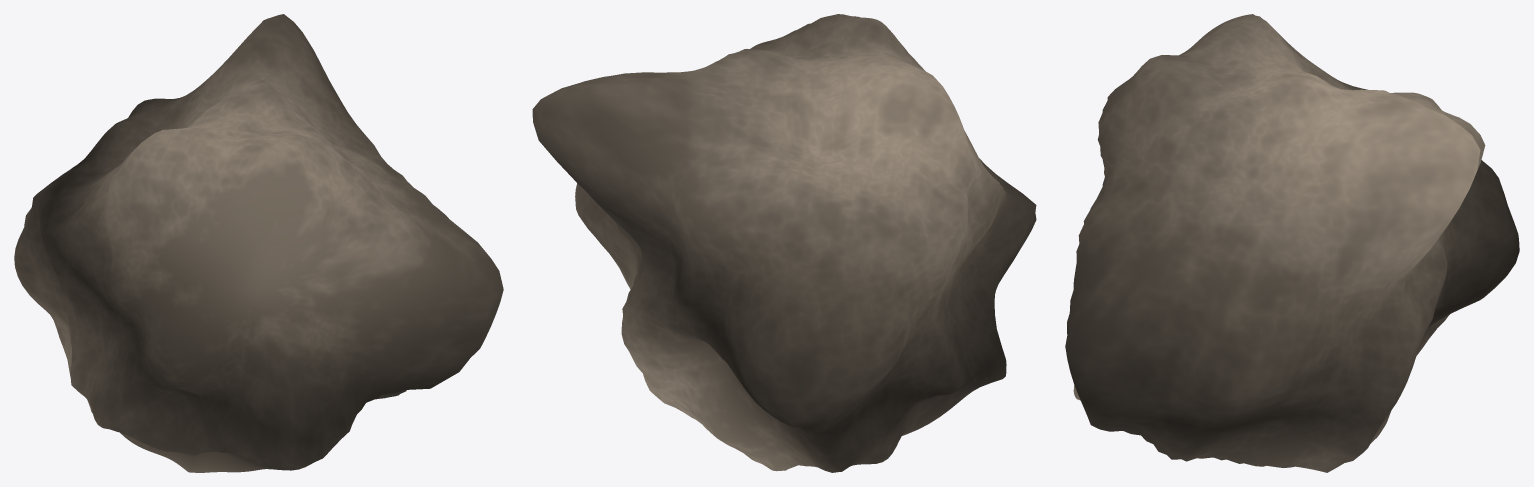
The model's file is asteroid-gravel.glb.
3 renders of one model, left to right at view 1: azimuth 30°, elevation 25°; view 2: azimuth 150°, elevation 25°; view 3: azimuth 270°, elevation 25°, orthographic. The views are drawn at different scales.
Parts seen in each view (by area): view 1: asteroid_1005; view 2: asteroid_1005; view 3: asteroid_1005.
Boxes of the visible parts, <box> form: asteroid_1005: <box>14,14,503,472</box>; asteroid_1005: <box>532,14,1036,472</box>; asteroid_1005: <box>1065,14,1519,472</box>.
Size of the model in its own units: 47.44 by 43.07 by 43.98.
1 material, 1 textured.
